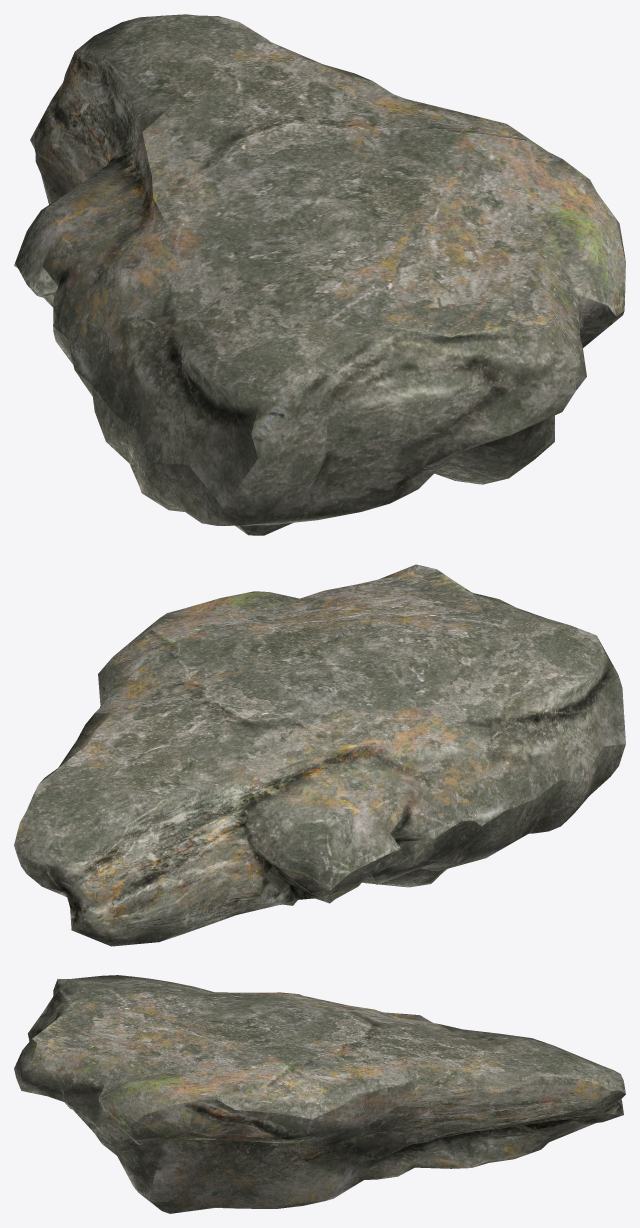
File: obj_nat_rock_01.glb
The picture shows the model from 3 angles, top to bottom: view 1: azimuth 30°, elevation 25°; view 2: azimuth 150°, elevation 25°; view 3: azimuth 270°, elevation 25°; orthographic projection. The views are drawn at different scales.
Visible parts, largest first — view 1: Object_2; view 2: Object_2; view 3: Object_2.
Boxes of the visible parts, box(x1,y1,x2,y2) form: Object_2: box(14, 14, 625, 535); Object_2: box(14, 564, 625, 946); Object_2: box(14, 975, 625, 1213).
Bounding box in the file's own units: 110 × 55.04 × 184.
Materials: 1 (1 with a texture image).
